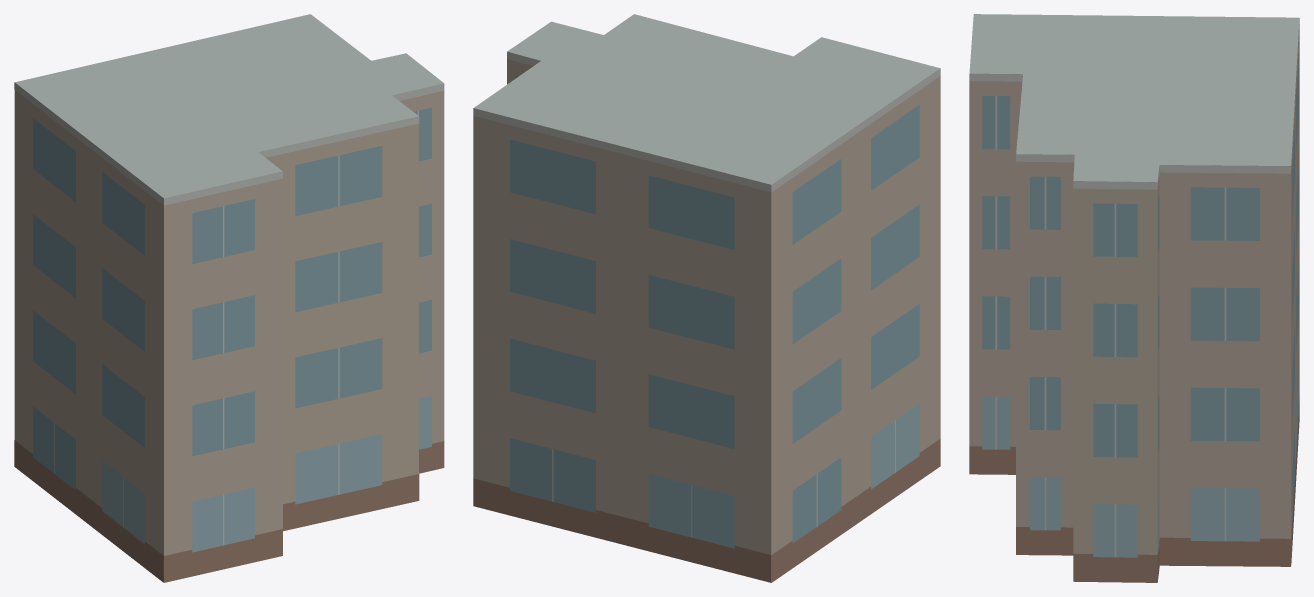
The model's file is survey-upis-32832815.glb.
3 views of the same model, side by side, from view 1: azimuth 30°, elevation 25°; view 2: azimuth 150°, elevation 25°; view 3: azimuth 270°, elevation 25° (orthographic). The views are drawn at different scales.
Parts seen in each view (by area): view 1: survey-upis-32832815.tmp; view 2: survey-upis-32832815.tmp; view 3: survey-upis-32832815.tmp.
Boxes of the visible parts, left/top/right/bottom form: survey-upis-32832815.tmp: left=14, top=14, right=444, bottom=582; survey-upis-32832815.tmp: left=473, top=14, right=940, bottom=582; survey-upis-32832815.tmp: left=969, top=14, right=1299, bottom=582.
Bounding box in the file's own units: 11.65 × 12.94 × 9.67.
